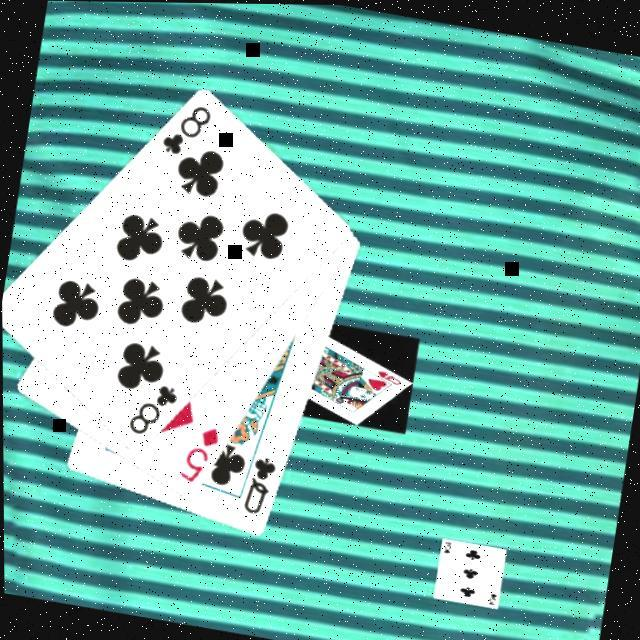5D: (173, 421, 223, 491)
8C: (123, 377, 183, 445), (157, 97, 216, 165)
QC: (238, 452, 281, 520)
